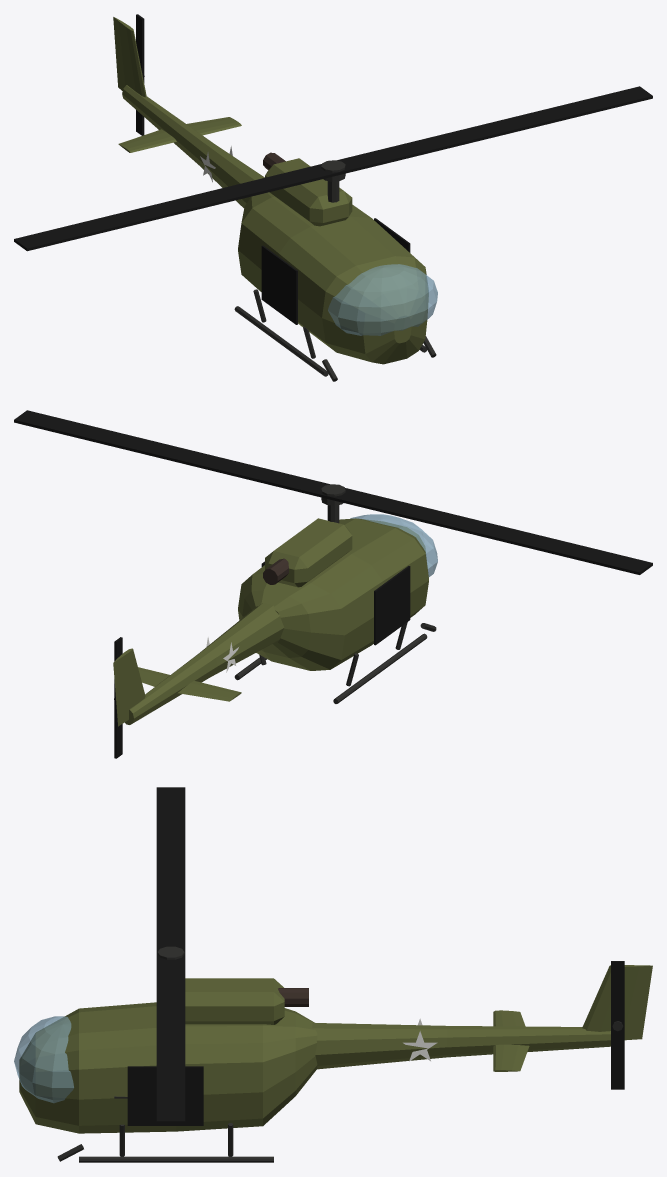
File: huey.glb
The picture shows the model from 3 angles, top to bottom: view 1: azimuth 30°, elevation 25°; view 2: azimuth 150°, elevation 25°; view 3: azimuth 270°, elevation 25°; orthographic projection. The views are drawn at different scales.
Parts seen in each view (by area): view 1: Helicoptero, Rotor, RotorCauda; view 2: Helicoptero, Rotor, RotorCauda; view 3: Helicoptero, Rotor, RotorCauda.
Boxes of the visible parts, bbox=[...] form: Helicoptero: bbox=[113, 17, 437, 381]; Rotor: bbox=[14, 86, 652, 251]; RotorCauda: bbox=[136, 14, 144, 135]; Helicoptero: bbox=[113, 505, 437, 726]; Rotor: bbox=[14, 410, 652, 574]; RotorCauda: bbox=[114, 637, 122, 758]; Helicoptero: bbox=[14, 965, 652, 1162]; Rotor: bbox=[156, 787, 185, 1124]; RotorCauda: bbox=[611, 961, 624, 1089].
Bounding box in the file's own units: 14.6 × 3.76 × 11.8.
